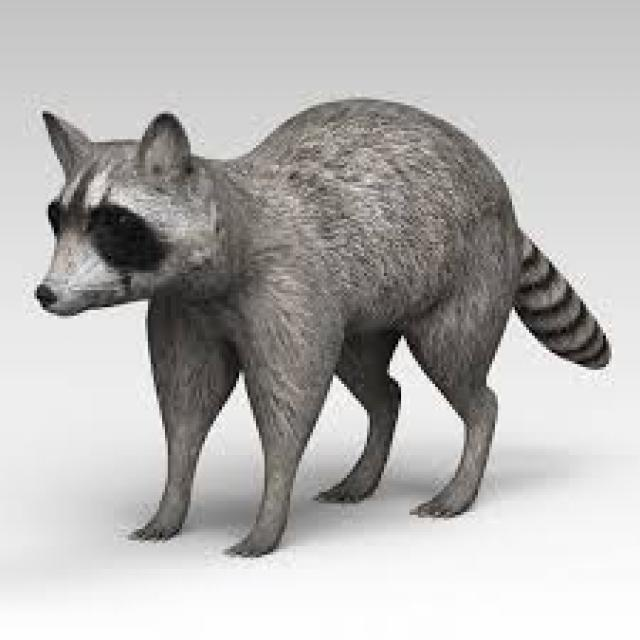raccoon: (18, 93, 640, 561)
